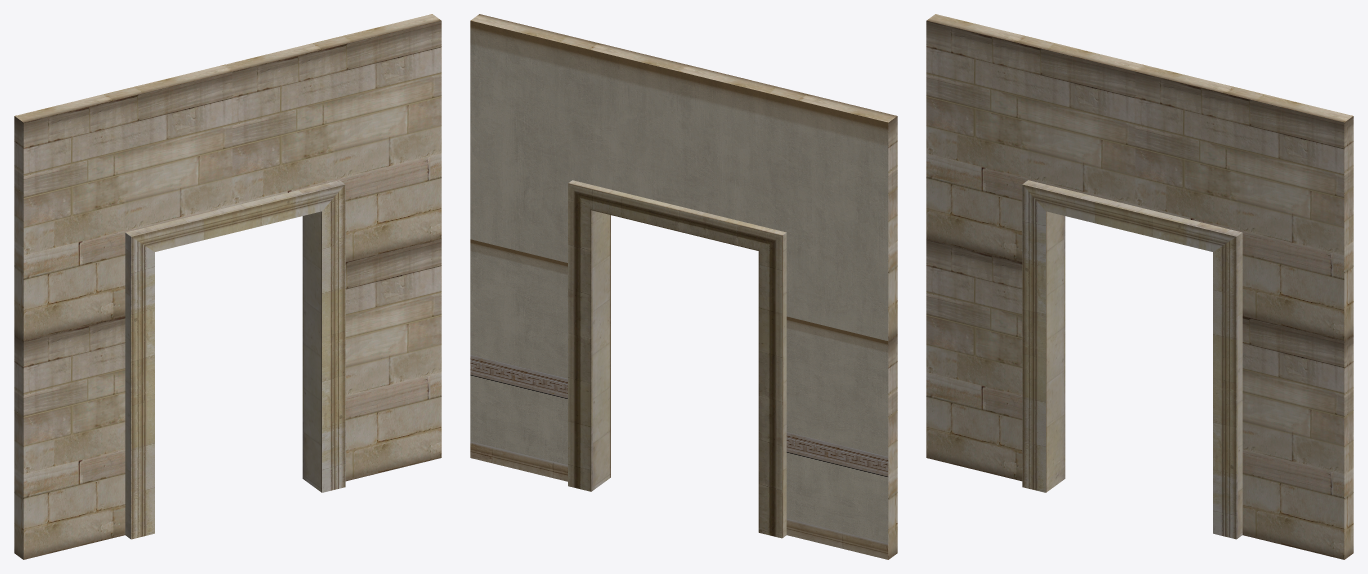
File: svspartadoorway4.dae
3 renders of one model, left to right at view 1: azimuth 30°, elevation 25°; view 2: azimuth 150°, elevation 25°; view 3: azimuth 330°, elevation 25°, orthographic.
Parts seen in each view (by area): view 1: unnamed_object34_sep67-0; view 2: unnamed_object34_sep67-0; view 3: unnamed_object34_sep67-0.
Boxes of the visible parts, left/top/right/bottom form: unnamed_object34_sep67-0: left=14, top=14, right=441, bottom=559; unnamed_object34_sep67-0: left=470, top=14, right=897, bottom=559; unnamed_object34_sep67-0: left=926, top=14, right=1353, bottom=559.
Bounding box in the file's own units: 800 × 800 × 64.62.
